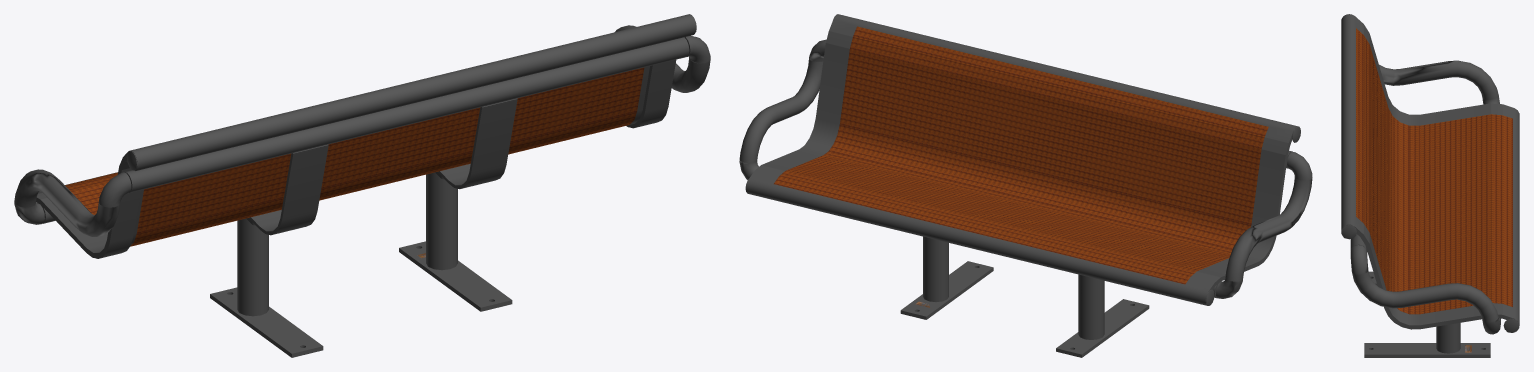
3 renders of one model, left to right at view 1: azimuth 30°, elevation 25°; view 2: azimuth 150°, elevation 25°; view 3: azimuth 270°, elevation 25°, orthographic. The views are drawn at different scales.
Parts seen in each view (by area): view 1: mesh60_mesh60-geometry, mesh49_mesh49-geometry, mesh8_mesh8-geometry, mesh33_mesh33-geometry, mesh34_mesh34-geometry, mesh1_mesh1-geometry, mesh3_mesh3-geometry, mesh4_mesh4-geometry, mesh5_mesh5-geometry, mesh6_mesh6-geometry, mesh2_mesh2-geometry; view 2: mesh60_mesh60-geometry, mesh49_mesh49-geometry, mesh1_mesh1-geometry, mesh34_mesh34-geometry, mesh33_mesh33-geometry, mesh2_mesh2-geometry; view 3: mesh60_mesh60-geometry, mesh49_mesh49-geometry, mesh2_mesh2-geometry, mesh1_mesh1-geometry, mesh34_mesh34-geometry, mesh33_mesh33-geometry, mesh6_mesh6-geometry, mesh47_mesh47-geometry, mesh48_mesh48-geometry.
Boxes of the visible parts, x1,y1,x2,y2 form: mesh60_mesh60-geometry: (65,67,644,246); mesh49_mesh49-geometry: (36,14,696,254); mesh8_mesh8-geometry: (124,37,689,192); mesh33_mesh33-geometry: (237,172,457,316); mesh34_mesh34-geometry: (210,241,512,357); mesh1_mesh1-geometry: (14,169,131,236); mesh3_mesh3-geometry: (249,144,328,235); mesh4_mesh4-geometry: (438,98,517,189); mesh5_mesh5-geometry: (36,154,140,258); mesh6_mesh6-geometry: (626,59,676,128); mesh2_mesh2-geometry: (615,25,710,92); mesh60_mesh60-geometry: (774,26,1268,284); mesh49_mesh49-geometry: (746,14,1299,305); mesh1_mesh1-geometry: (1215,152,1312,298); mesh34_mesh34-geometry: (900,261,1149,357); mesh33_mesh33-geometry: (923,236,1104,339); mesh2_mesh2-geometry: (739,39,826,179); mesh60_mesh60-geometry: (1356,28,1512,314); mesh49_mesh49-geometry: (1341,14,1519,332); mesh2_mesh2-geometry: (1350,245,1500,334); mesh1_mesh1-geometry: (1379,60,1499,104); mesh34_mesh34-geometry: (1364,271,1490,357); mesh33_mesh33-geometry: (1436,323,1460,353); mesh6_mesh6-geometry: (1356,229,1511,329); mesh47_mesh47-geometry: (1503,318,1519,332); mesh48_mesh48-geometry: (1341,225,1356,239).
Bounding box in the file's own units: 0.8881 × 0.3553 × 0.2915.
